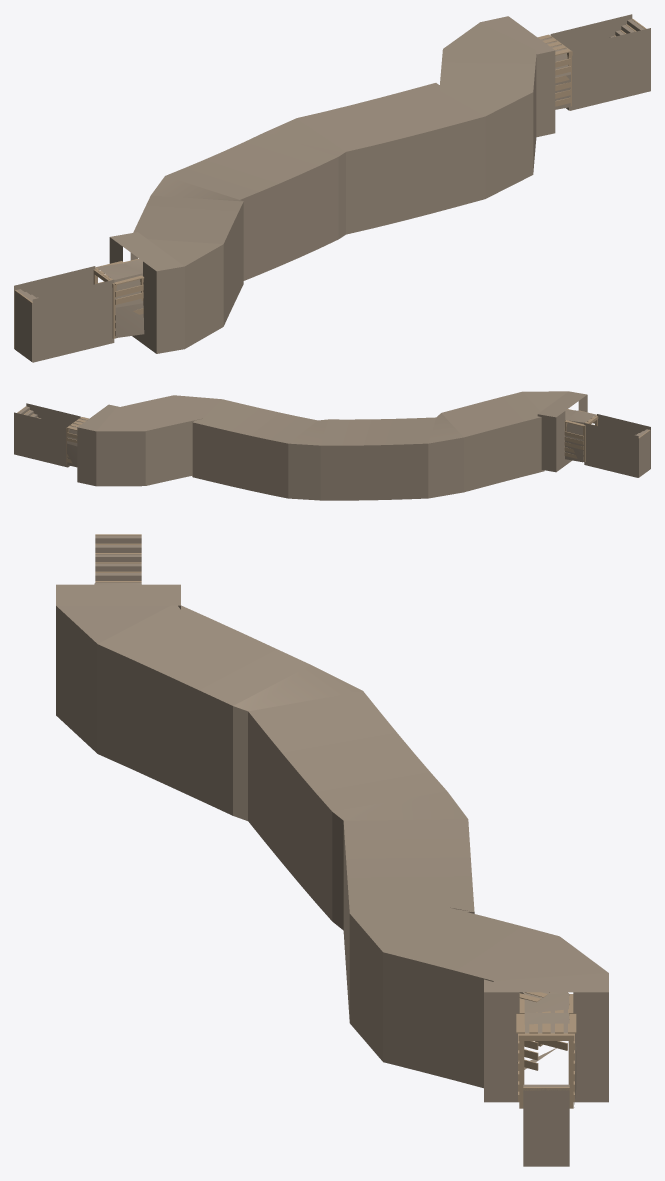
File: tunnel_b6_b7.glb
The picture shows the model from 3 angles, top to bottom: view 1: azimuth 30°, elevation 25°; view 2: azimuth 150°, elevation 25°; view 3: azimuth 270°, elevation 25°; orthographic projection. The views are drawn at different scales.
Visible parts, largest first — view 1: tunnel_b6_b7__earth, tunnel_b6_b7__timber; view 2: tunnel_b6_b7__earth, tunnel_b6_b7__timber; view 3: tunnel_b6_b7__earth, tunnel_b6_b7__timber.
Part boxes in pixels (x1,y1,x2,y2): tunnel_b6_b7__earth: (14, 14, 650, 362); tunnel_b6_b7__timber: (15, 18, 646, 338); tunnel_b6_b7__earth: (14, 391, 650, 500); tunnel_b6_b7__timber: (17, 406, 649, 464); tunnel_b6_b7__earth: (56, 535, 608, 1166); tunnel_b6_b7__timber: (95, 534, 576, 1108).
Size of the model in its own units: 33.52 by 5.26 by 15.5.
